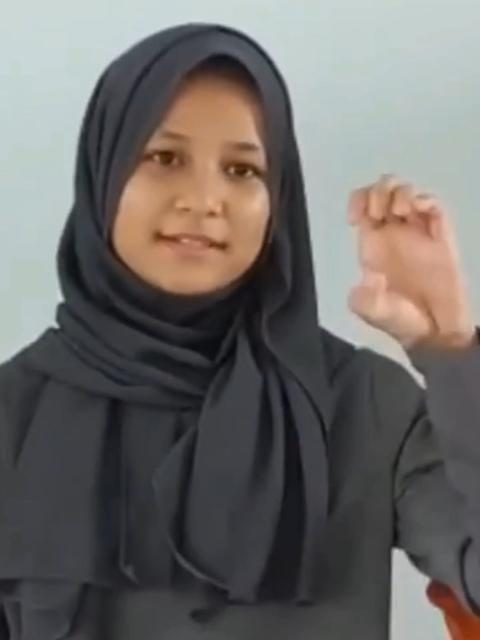E: (343, 168, 471, 344)
